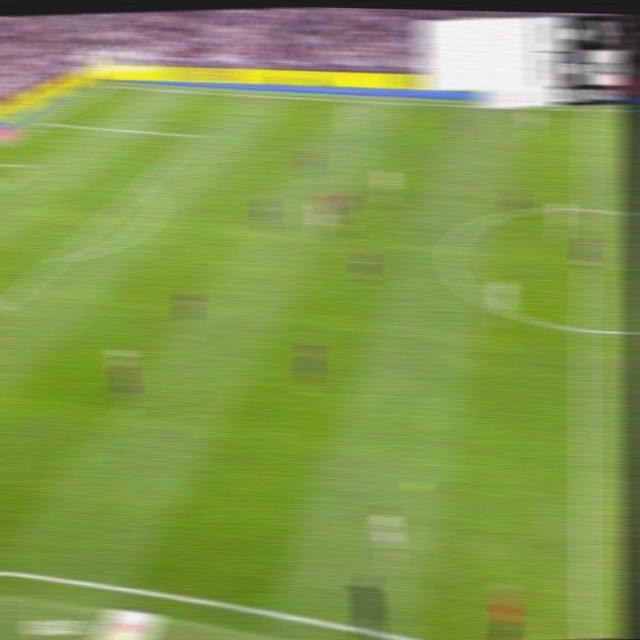bigarea_top_inner: (190, 127, 207, 144)
bigarea_top_outter: (35, 115, 52, 127)
bottom_arc_area_intersection: (49, 250, 68, 269)
halfcircle_bottom: (573, 315, 595, 342)
halfcircle_top: (574, 197, 597, 220)
midline_top_intersection: (578, 103, 596, 117)
smallarea_top_inner: (24, 159, 42, 173)
top_arc_area_intersection: (135, 176, 153, 190)
